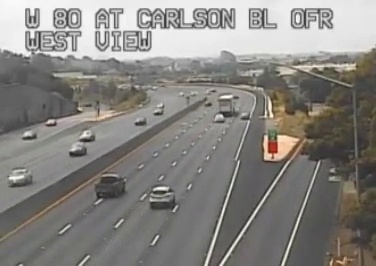car: (94, 173, 124, 197), (149, 186, 175, 206)
